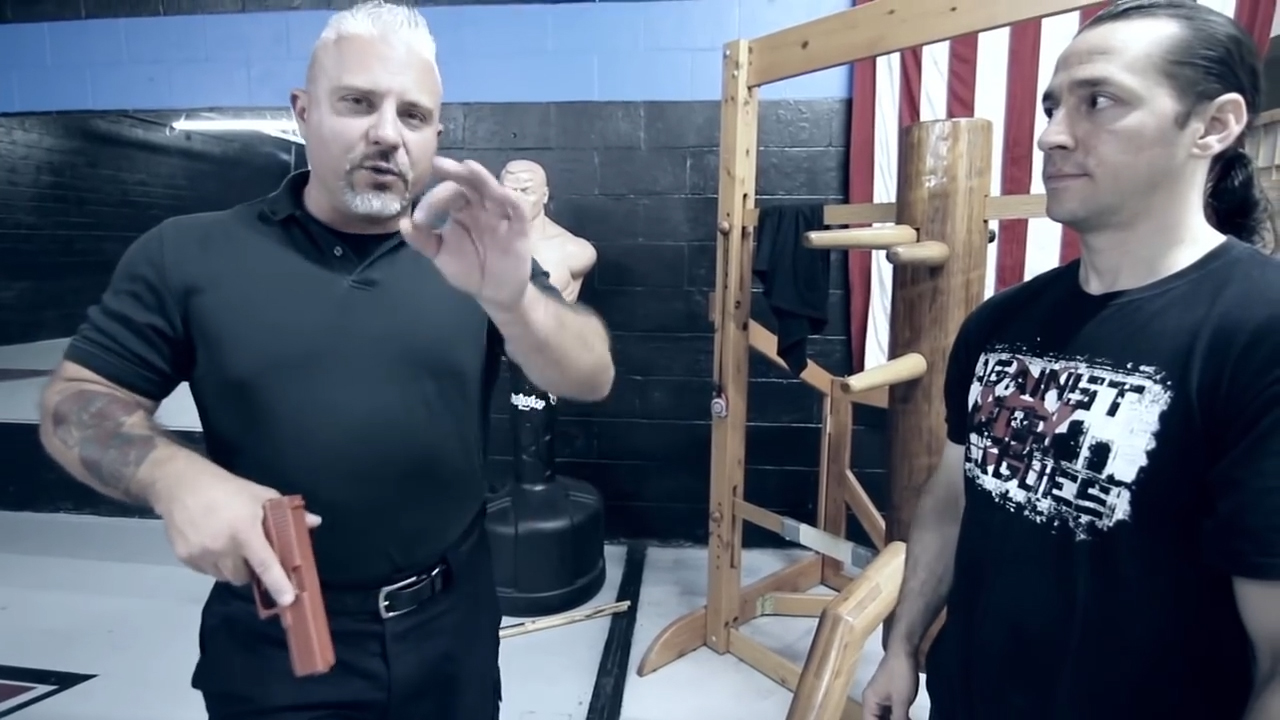pistol: (241, 492, 339, 682)
